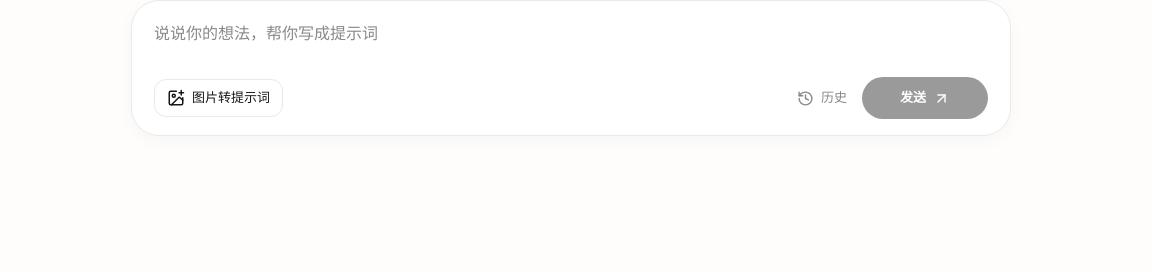
Test: real same-page creative workspace › keeps history intact and reports an unsuccessful deletion
Click the button "历史": click(822, 98) x1=794 y1=80 x2=850 y2=116
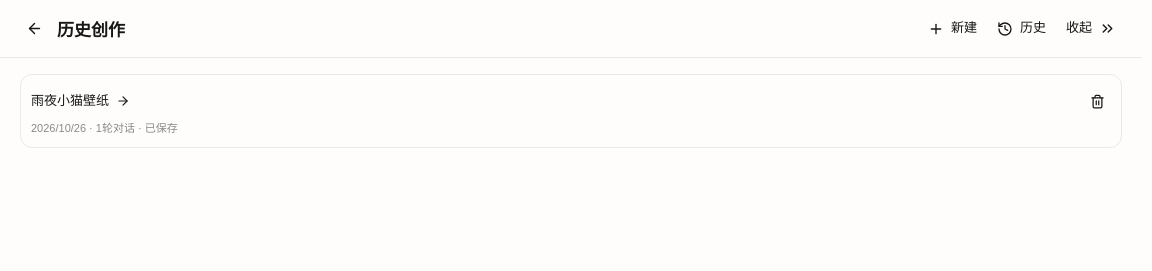
Click the button named "删除对话": click(1098, 101) x1=1084 y1=83 x2=1111 y2=119
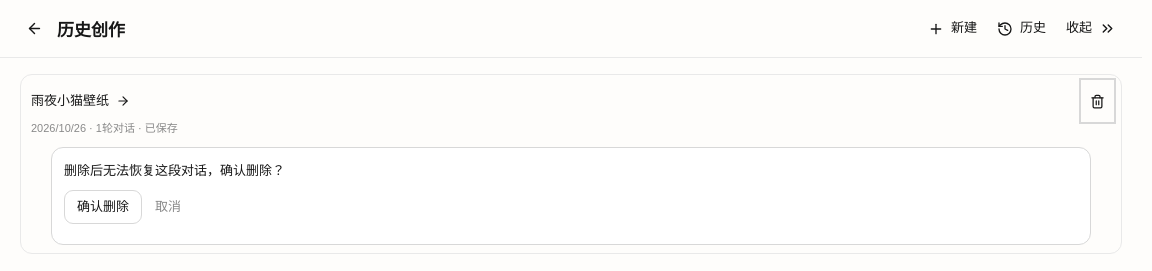
Click the button "确认删除": click(103, 207) x1=64 y1=190 x2=142 y2=224
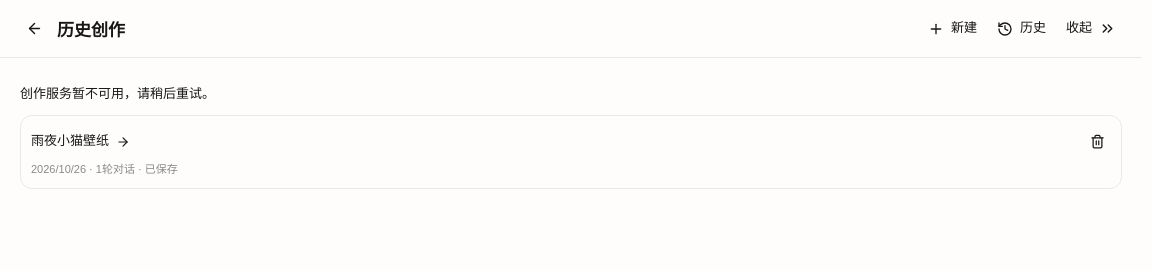
Result: the button "雨夜小猫壁纸" is shown at x1=31 y1=125 x2=1076 y2=158
Result: the message shows "创作服务暂不可用" at x1=20 y1=86 x2=215 y2=101
